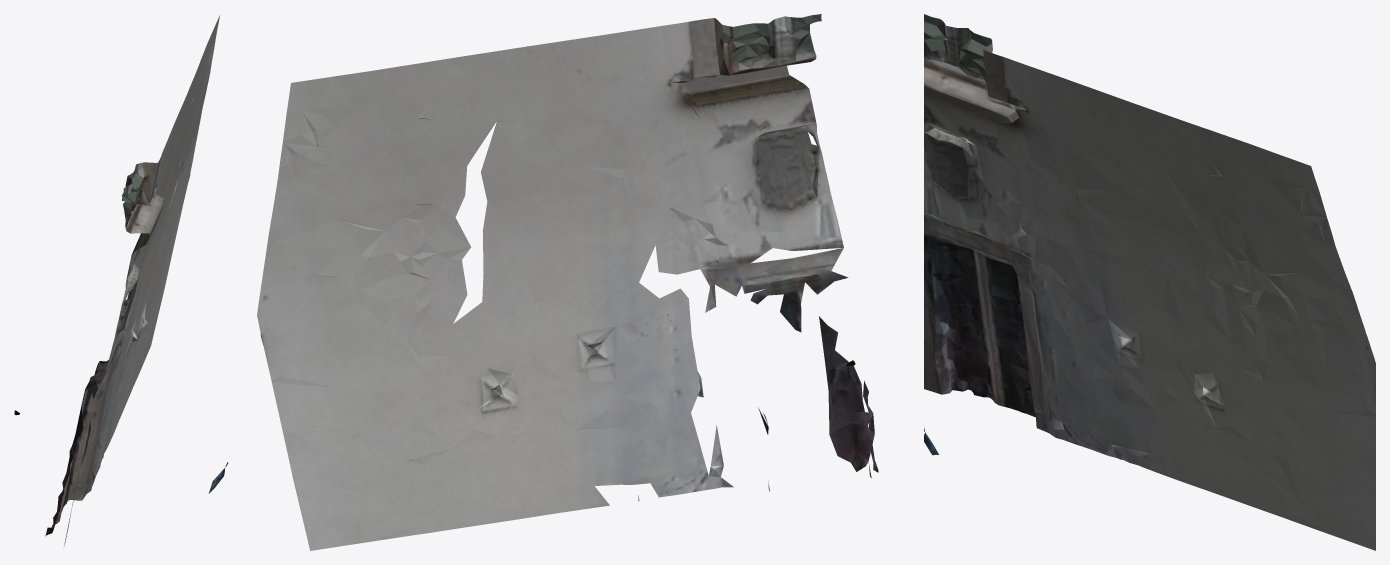
3 views of the same model, side by side, from view 1: azimuth 30°, elevation 25°; view 2: azimuth 150°, elevation 25°; view 3: azimuth 270°, elevation 25° (orthographic). The views are drawn at different scales.
Bounding box in the file's own units: 3.35 × 3.35 × 3.35.
3 materials, 3 textured.
